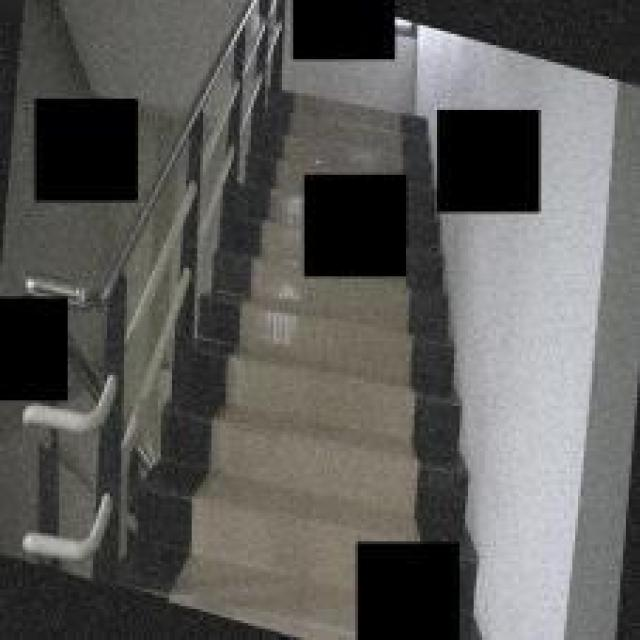upstair: (210, 297, 351, 621)
